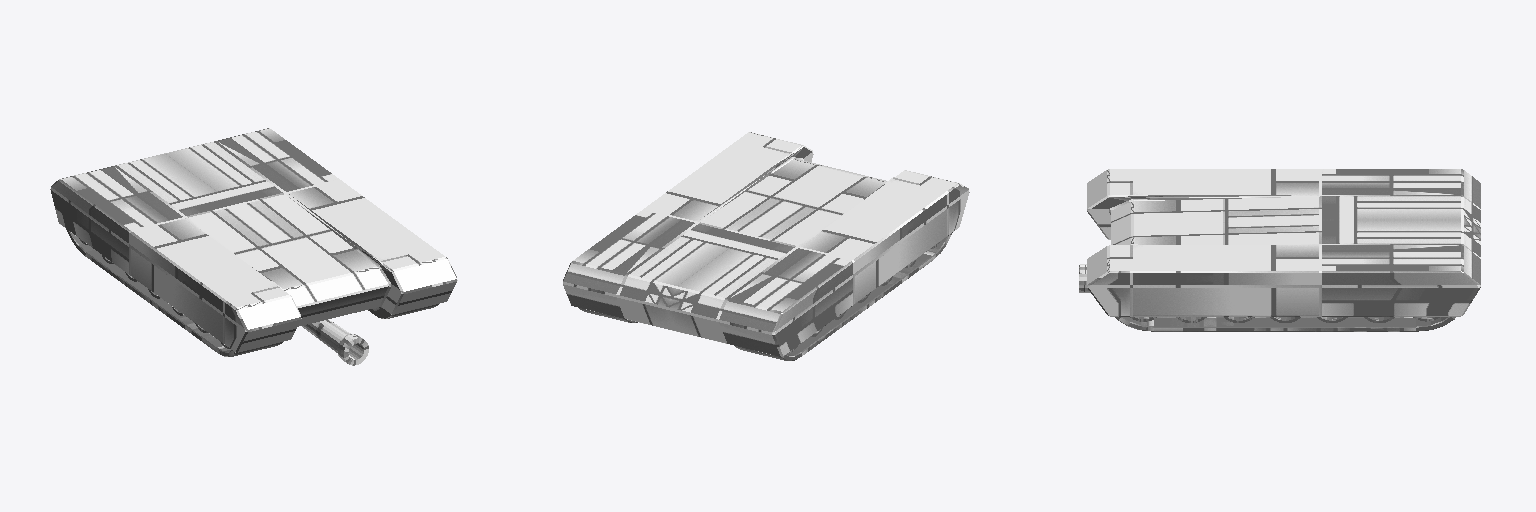
3 renders of one model, left to right at view 1: azimuth 30°, elevation 25°; view 2: azimuth 150°, elevation 25°; view 3: azimuth 270°, elevation 25°, orthographic.
Parts seen in each view (by area): view 1: body, tracks, barrel; view 2: body, tracks; view 3: body, tracks, wheels.
Part boxes in pixels (x1,y1,x2,y2): body: (50,128,457,352); tracks: (66,229,438,356); barrel: (302,319,368,365); body: (563,132,969,356); tracks: (579,233,951,360); body: (1087,169,1480,316); tracks: (1115,317,1455,331); wheels: (1130,317,1439,322).
Bounding box in the file's own units: 0.6218 × 0.2013 × 1.02.
5 materials, 5 textured.